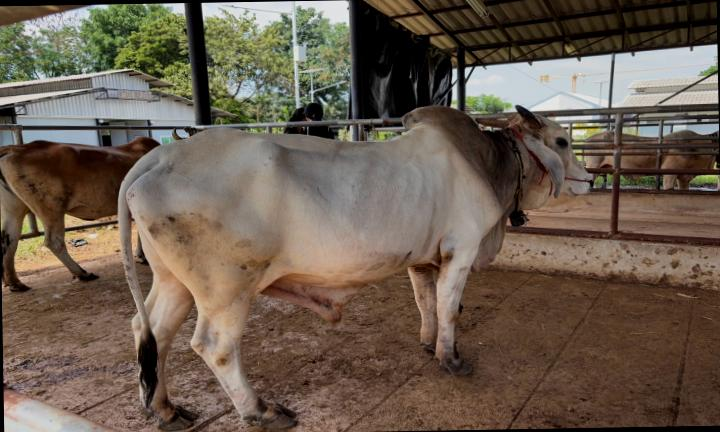Brahman: (118, 106, 590, 430)
